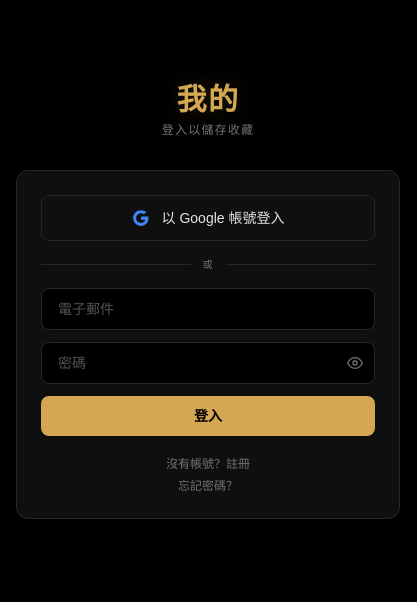
Test: register mode › blocks registration if password is under 12 chars
Click the button "沒有帳號？註冊". click: (208, 464)
box: [166,456,250,472]
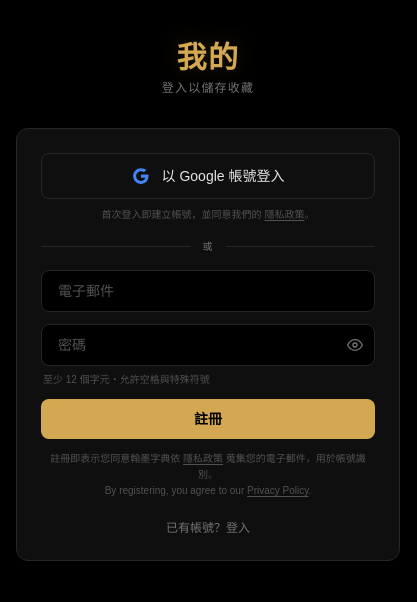
Type "a@b.com" into the field with placeholder "電子郵件". click: (208, 291)
box: [41,270,375,312]
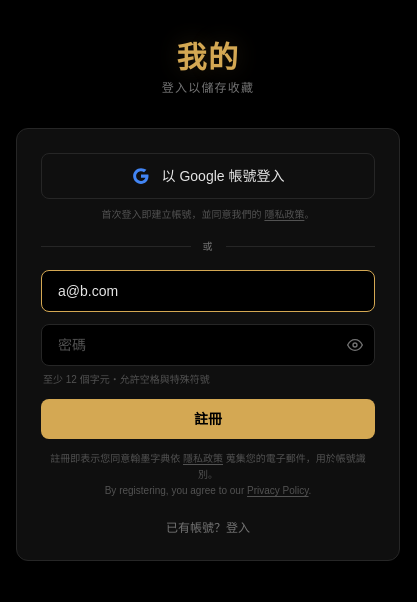
Type "short" into the password field with placeholder "密碼". click: (208, 345)
box: [41,324,375,366]
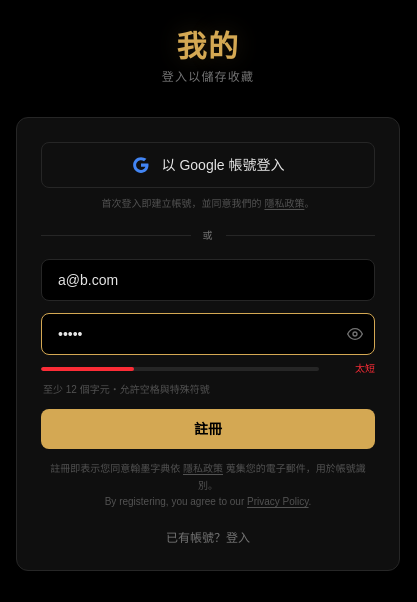
Click the button "註冊". click: (208, 429)
box: [41,409,375,449]
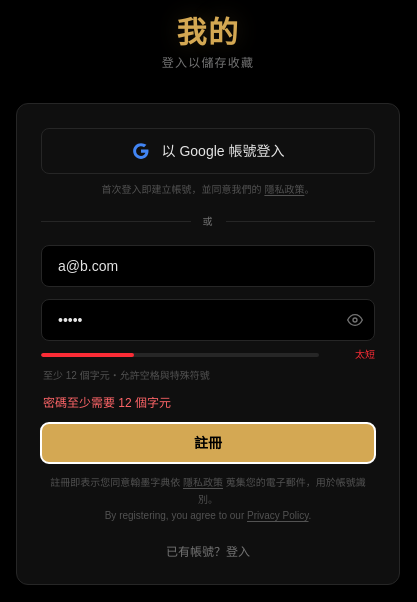
Expected: the message "密碼至少需要 12 個字元" is shown, [43,396,171,410]
